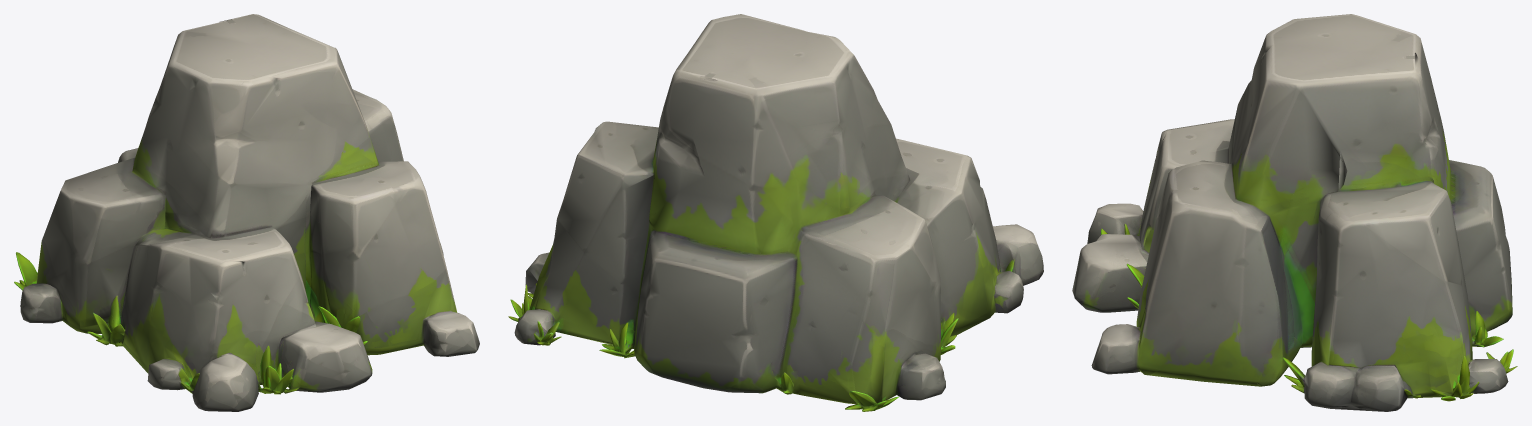
File: Meshy_AI_Mossy_Boulder_Stack_0518160212_texture.fbx
3 views of the same model, side by side, from view 1: azimuth 30°, elevation 25°; view 2: azimuth 150°, elevation 25°; view 3: azimuth 270°, elevation 25° (orthographic). The views are drawn at different scales.
Parts seen in each view (by area): view 1: Mesh_0.001; view 2: Mesh_0.001; view 3: Mesh_0.001.
Part boxes in pixels (x1,y1,x2,y2): Mesh_0.001: (14,14,479,411); Mesh_0.001: (508,14,1043,411); Mesh_0.001: (1072,14,1517,411).
Size of the model in its own units: 164 by 100 by 152.
Materials: 1 (1 with a texture image).
